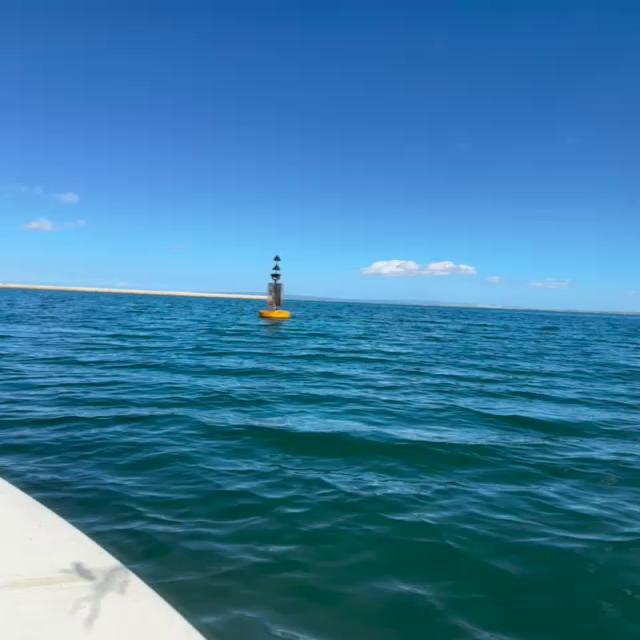marque: (257, 256, 298, 321)
